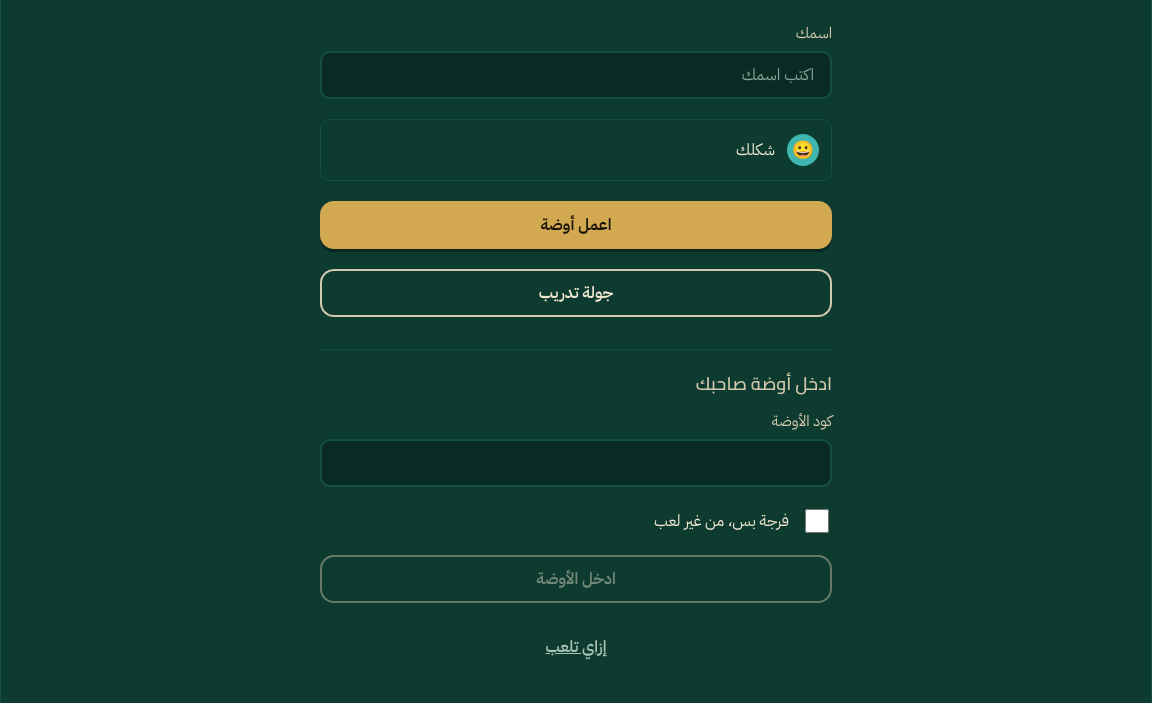
Test: tutorial › explains the game in Egyptian Arabic
The image size is (1152, 703).
(page scrolled)
Step 1. Click the button "إزاي تلعب" → (576,647), box [320,623,832,671]
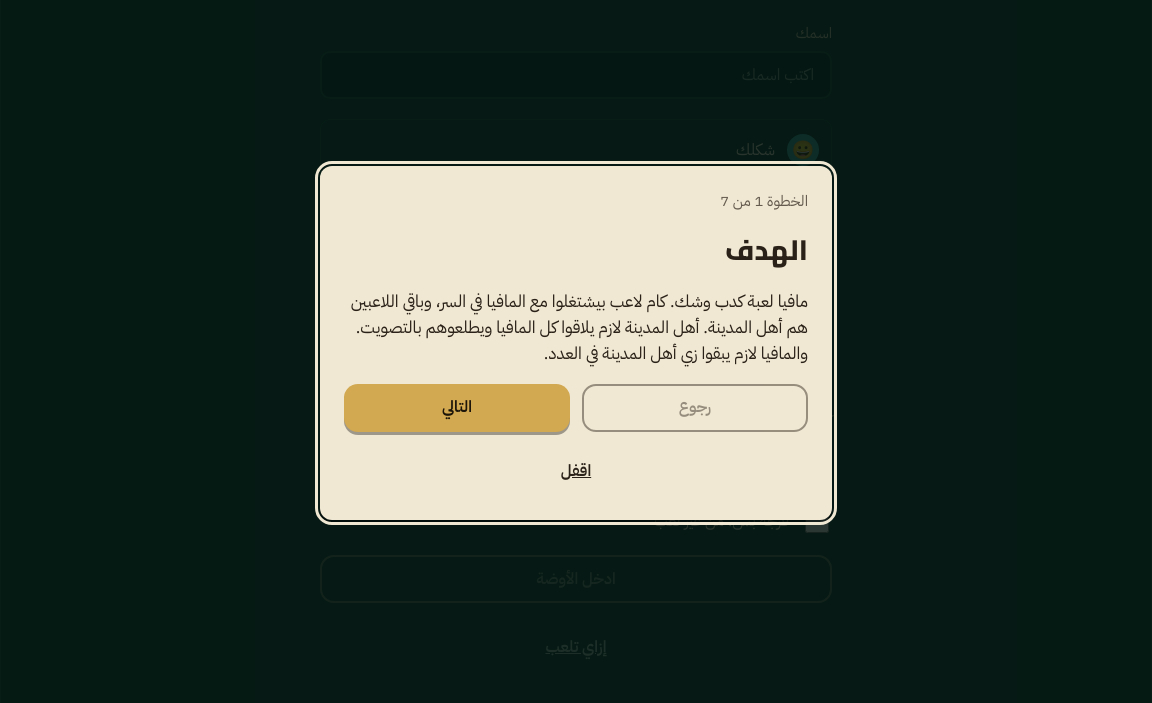
Expected: the heading "الهدف" is shown, [725,224,808,276]
Expected: the text "مافيا لعبة كدب وشك. كام لاعب بيشتغلوا مع المافيا في السر، وباقي اللاعبين هم أهل المدينة. أهل المدينة لازم يلاقوا كل الما" is shown, [351,289,808,366]
